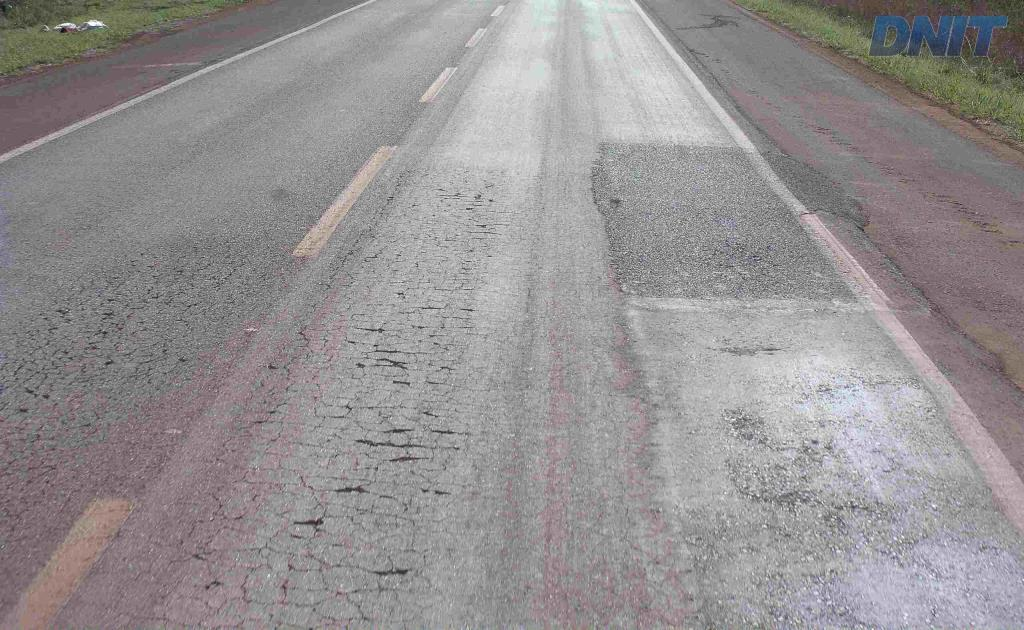crack: (597, 167, 631, 228)
